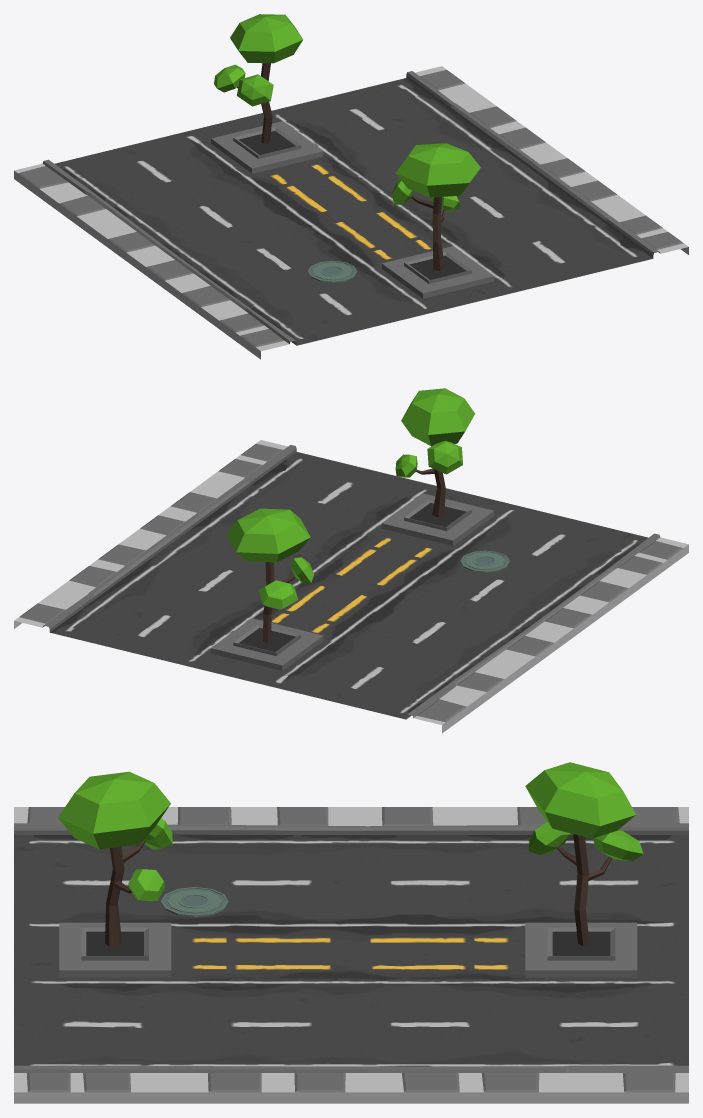
File: Road_Wide_04.fbx
3 views of the same model, one above another, from view 1: azimuth 30°, elevation 25°; view 2: azimuth 150°, elevation 25°; view 3: azimuth 270°, elevation 25° (orthographic). The views are drawn at different scales.
Visible parts, largest first — view 1: Road_Wide_04; view 2: Road_Wide_04; view 3: Road_Wide_04.
Part boxes in pixels (left/top/right/bottom): Road_Wide_04: left=14, top=14, right=688, bottom=359; Road_Wide_04: left=14, top=388, right=688, bottom=733; Road_Wide_04: left=14, top=762, right=688, bottom=1103.
Size of the model in its own units: 2400 by 739 by 2400.
